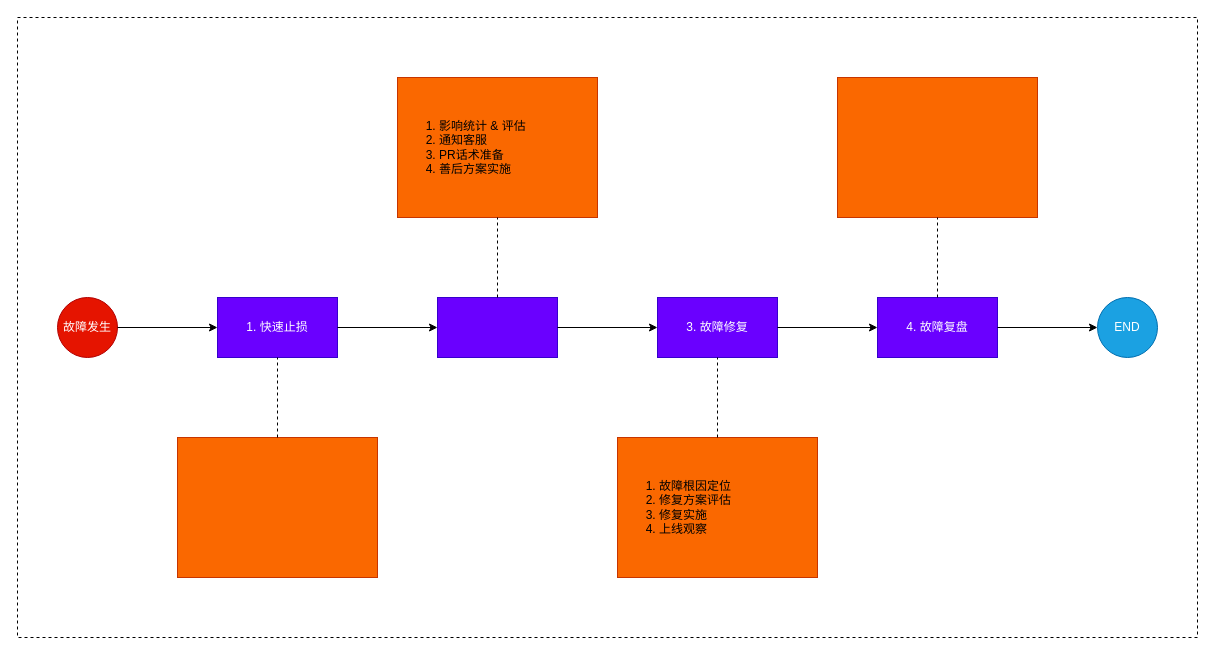
The diagram is 1215 pixels wide and 655 high, and some of its shapes have lost their labels. Each missing label, with the centre of its shape:
2. 及时善后: the point at 497,327
回滚 配置变更恢复 服务降级 通报 保留现场: the point at 277,507
故障概述 事故时间轴 影响面分享 反思总结 改进项和落实计划: the point at 937,147
